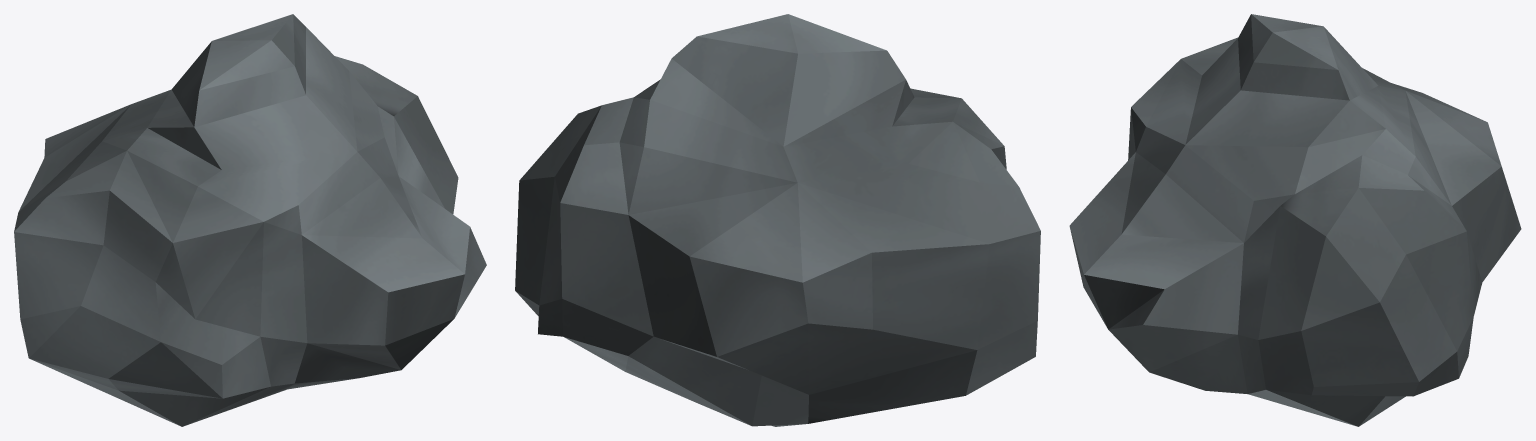
Rendered from RockBig_Large.fbx.
3 renders of one model, left to right at view 1: azimuth 30°, elevation 25°; view 2: azimuth 150°, elevation 25°; view 3: azimuth 270°, elevation 25°, orthographic. The views are drawn at different scales.
Visible parts, largest first — view 1: RockBig_Large; view 2: RockBig_Large; view 3: RockBig_Large.
Boxes of the visible parts, bbox=[...] form: RockBig_Large: bbox=[14, 14, 486, 426]; RockBig_Large: bbox=[515, 14, 1040, 426]; RockBig_Large: bbox=[1069, 14, 1521, 426].
Size of the model in its own units: 10093 by 7911 by 8673.
